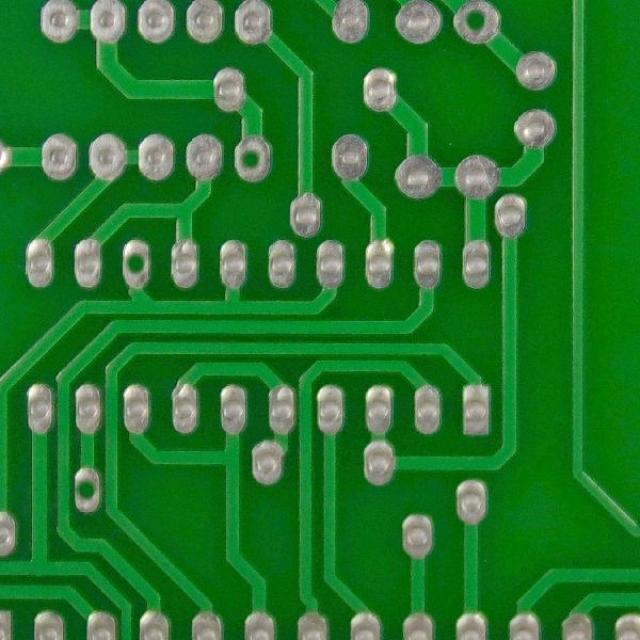Missing_Hole: (450, 0, 505, 50), (229, 136, 274, 184), (117, 237, 156, 290), (68, 464, 105, 515)
